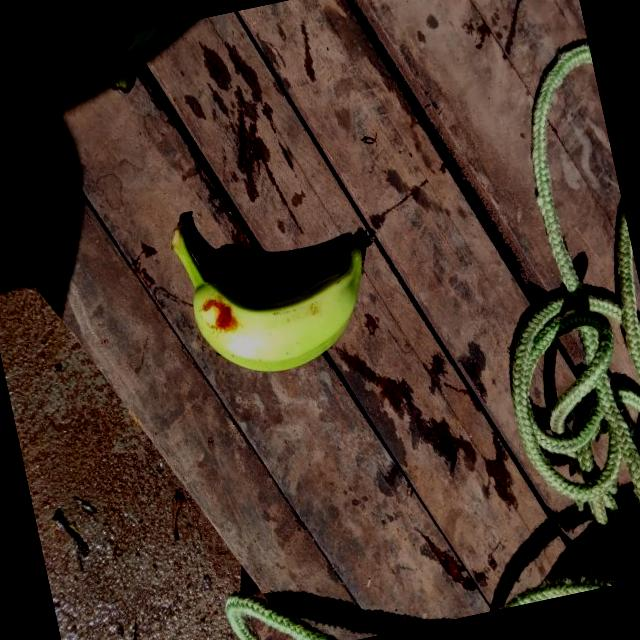Banana: (164, 174, 398, 388)
